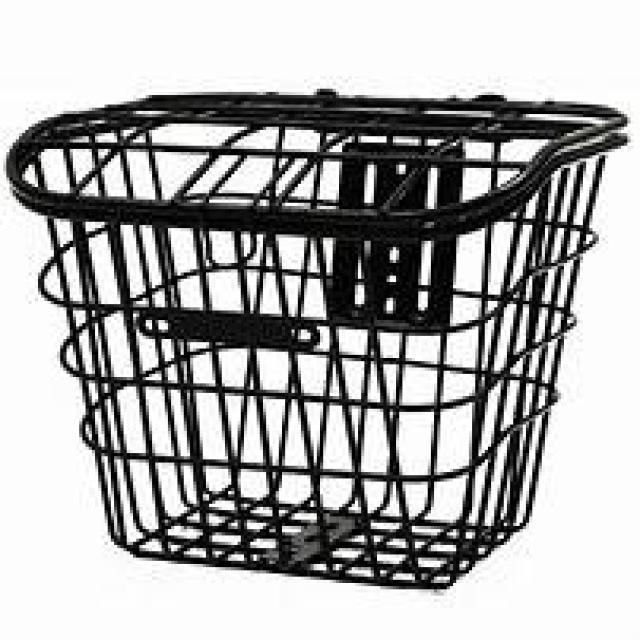basket: (6, 89, 626, 592)
